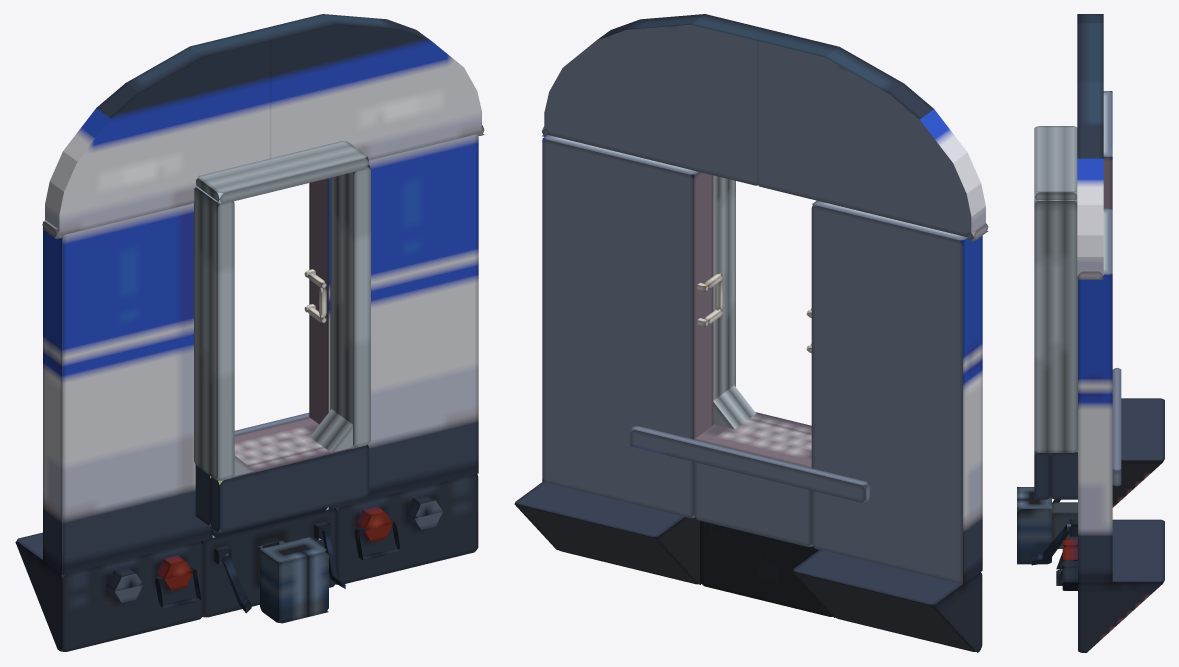
File: df11g_end_face.obj
3 renders of one model, left to right at view 1: azimuth 30°, elevation 25°; view 2: azimuth 150°, elevation 25°; view 3: azimuth 270°, elevation 25°, orthographic. The views are drawn at different scales.
Visible parts, largest first — view 1: cylinder_selection; view 2: cylinder_selection; view 3: cylinder_selection.
Part boxes in pixels (bbox=[...]): cylinder_selection: bbox=[15, 14, 484, 651]; cylinder_selection: bbox=[514, 14, 988, 652]; cylinder_selection: bbox=[1017, 14, 1164, 652].
Size of the model in its own units: 3.22 by 4.03 by 1.06.
